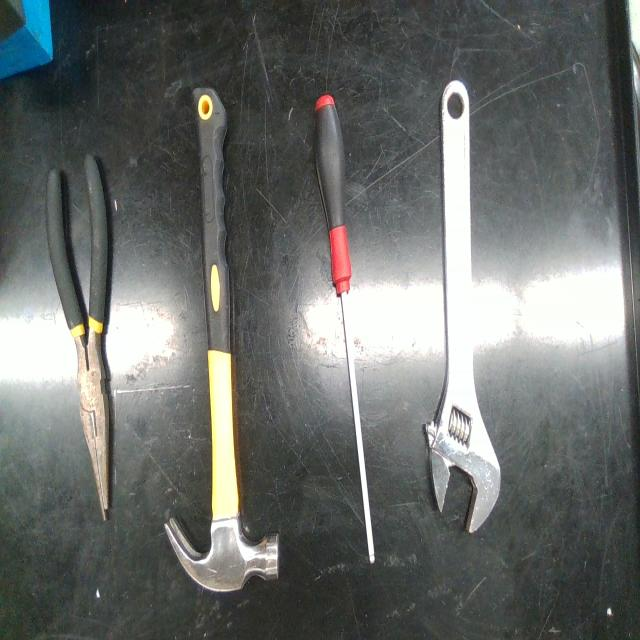Screwdriver: (315, 93, 375, 562)
